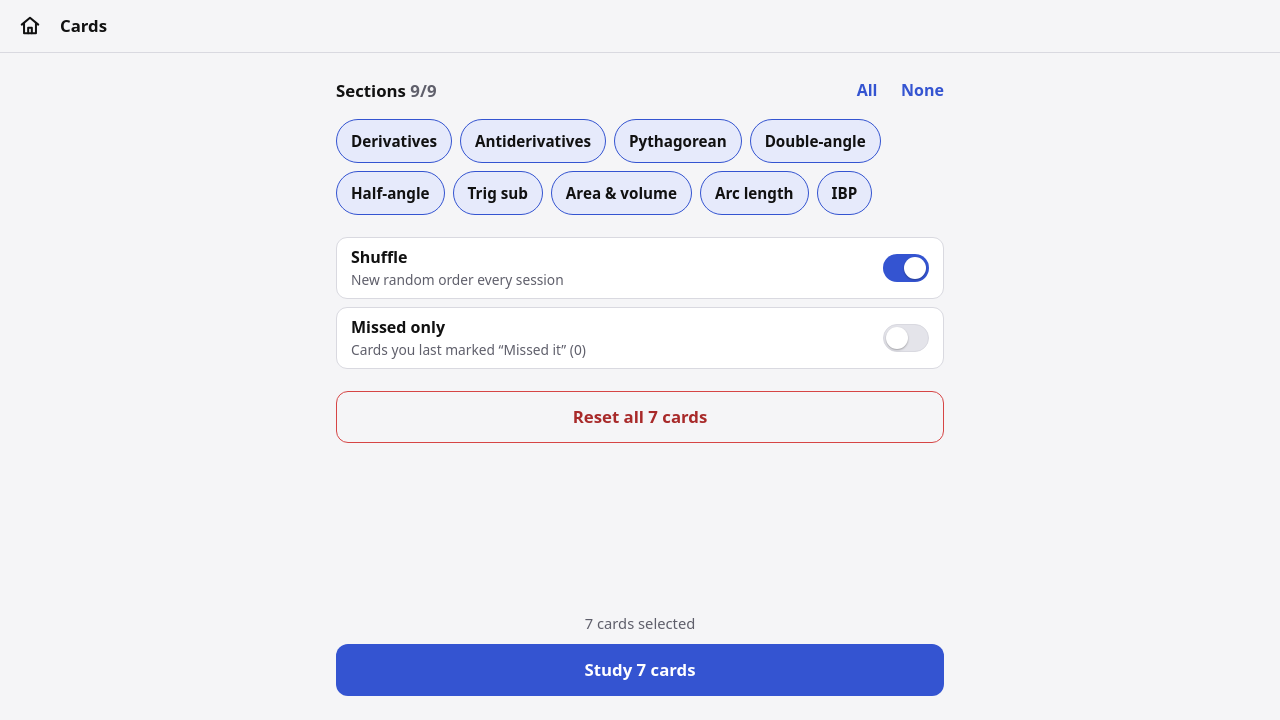
Test: study session › works with storage unavailable (in-memory fallback)
This screenshot has width=1280, height=720.
Later steps or results of the test are not shown.
Click the switch labelled "Shuffle New random order every session".
click(379, 257)  # box [336,237,944,299]
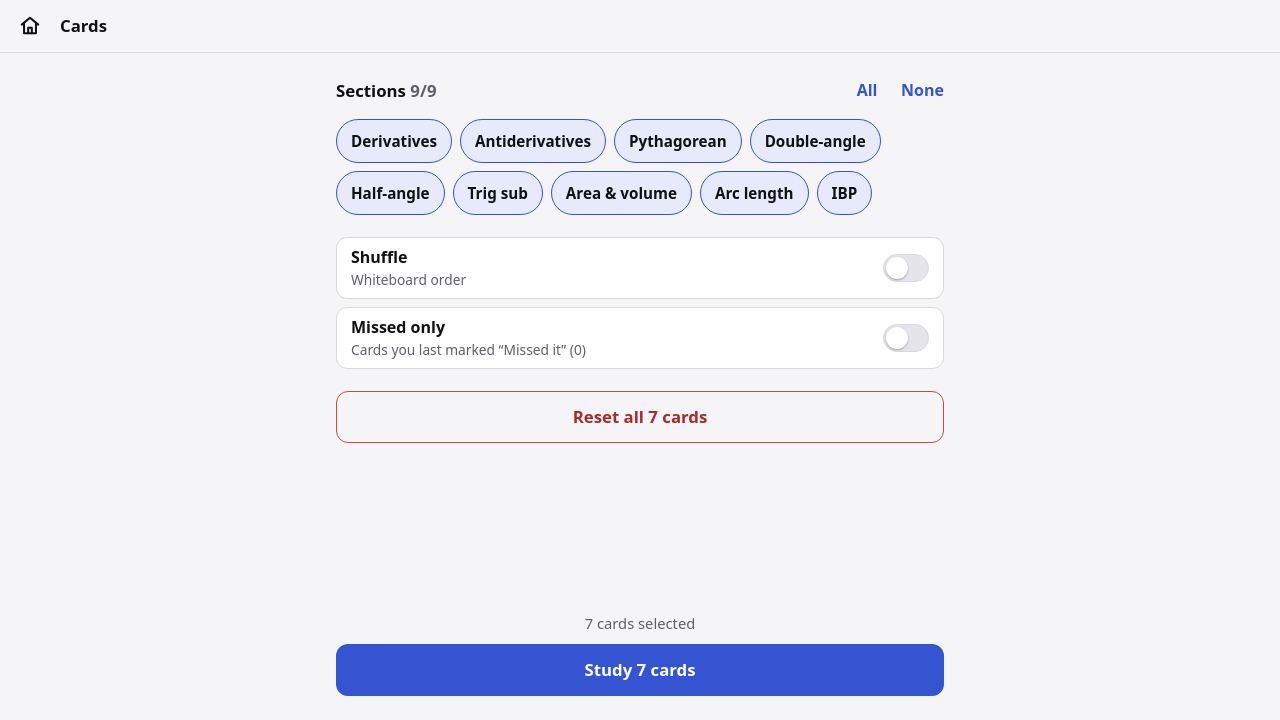
Click the button "Study 7 cards".
click(640, 670)  # box [336,644,944,696]
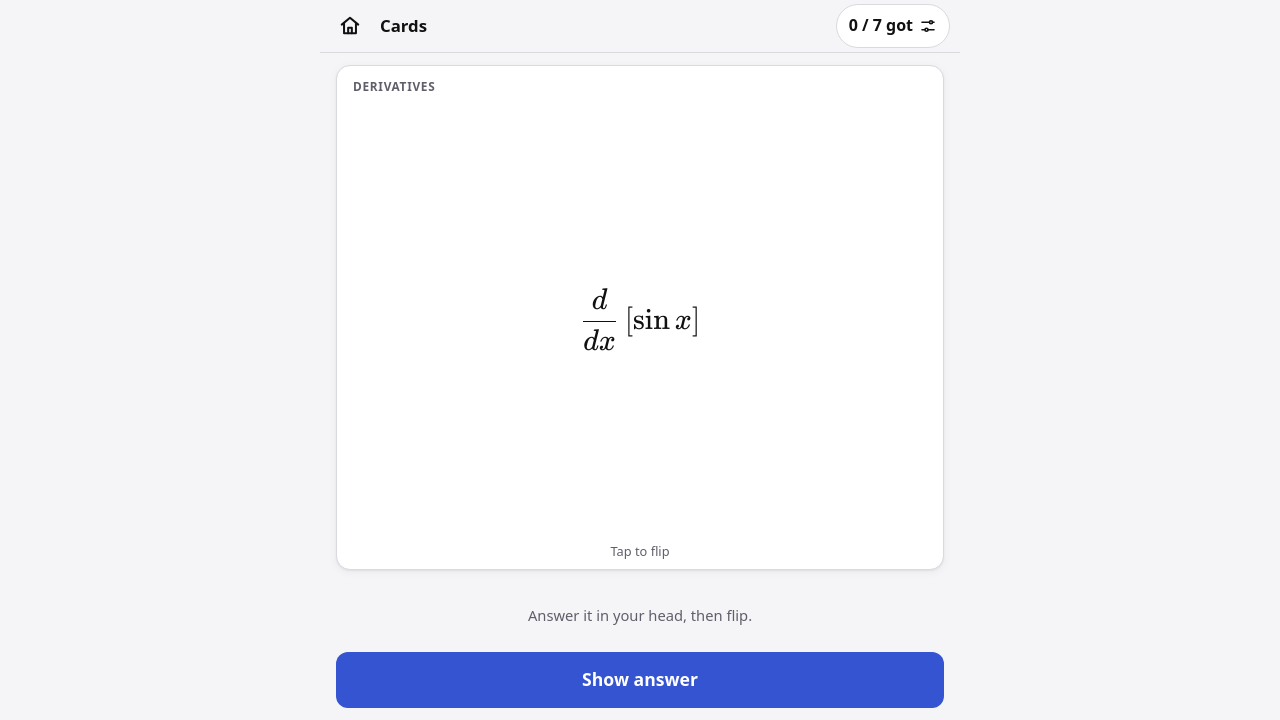
Click the element with class "flashcard".
click(640, 540)  # box [336,65,944,570]
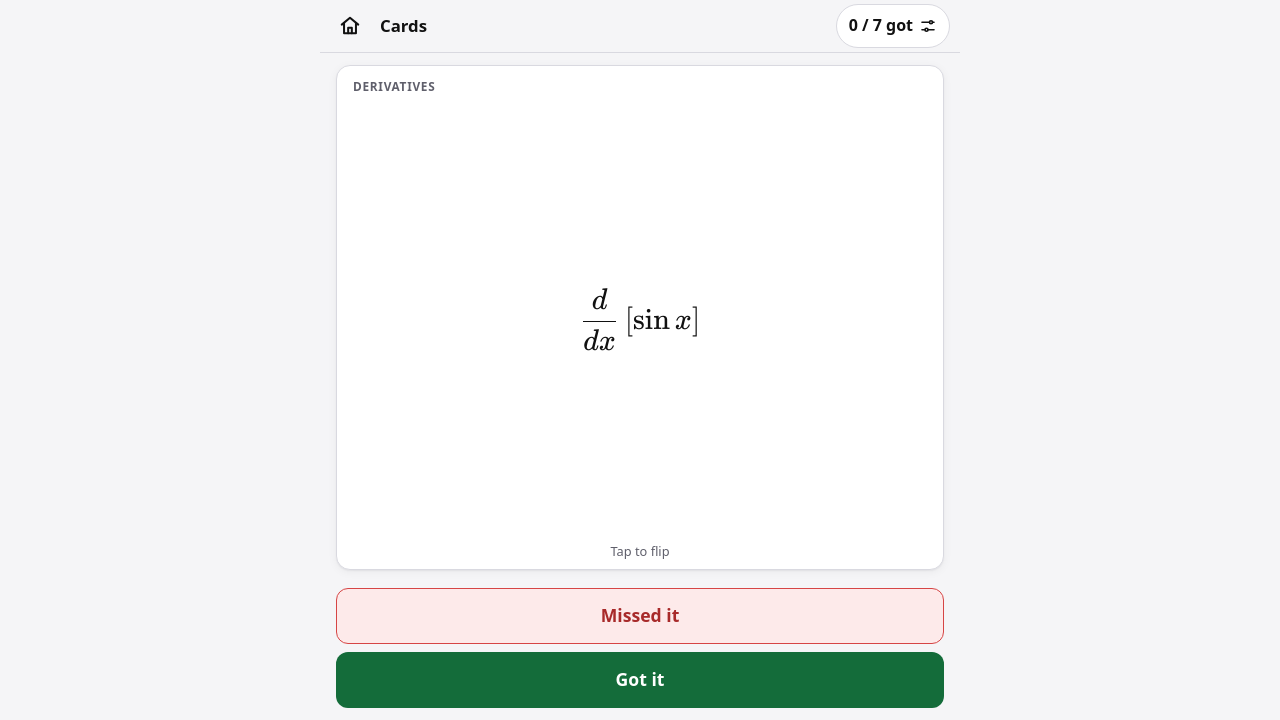
Click the button "Missed it".
click(640, 616)  # box [336,588,944,644]
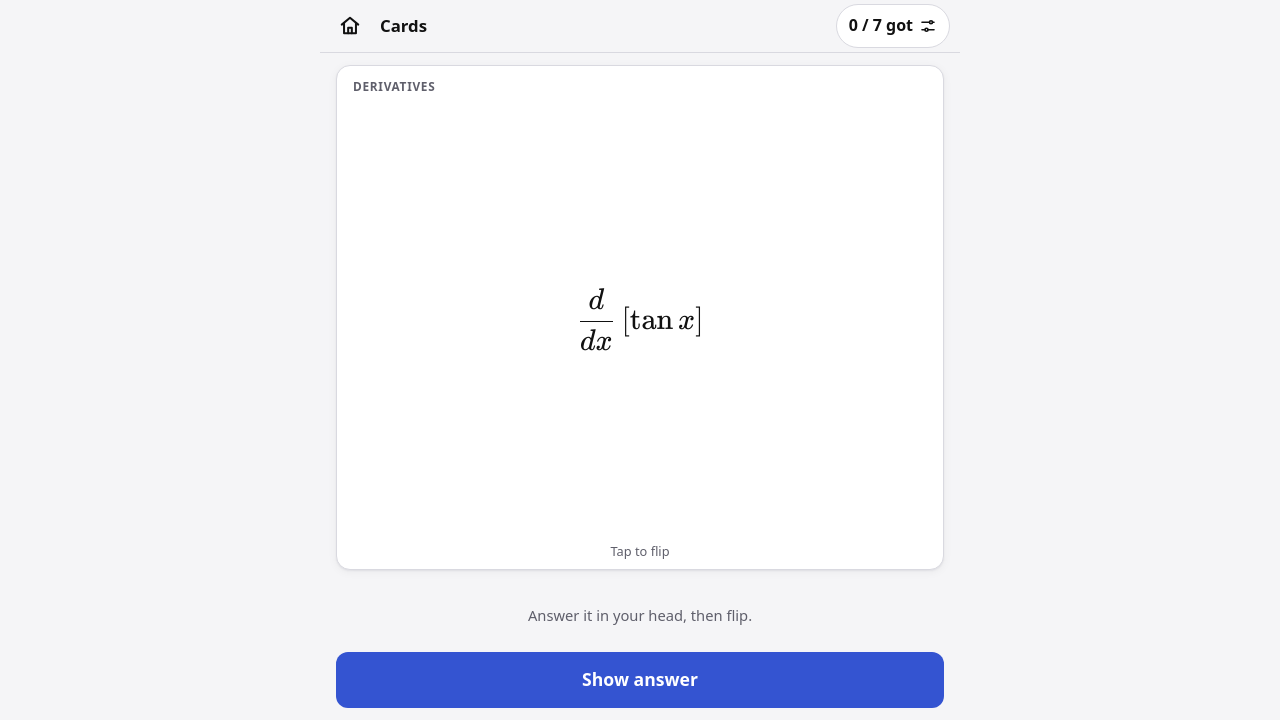
Click the element with class "flashcard".
click(640, 540)  # box [336,65,944,570]
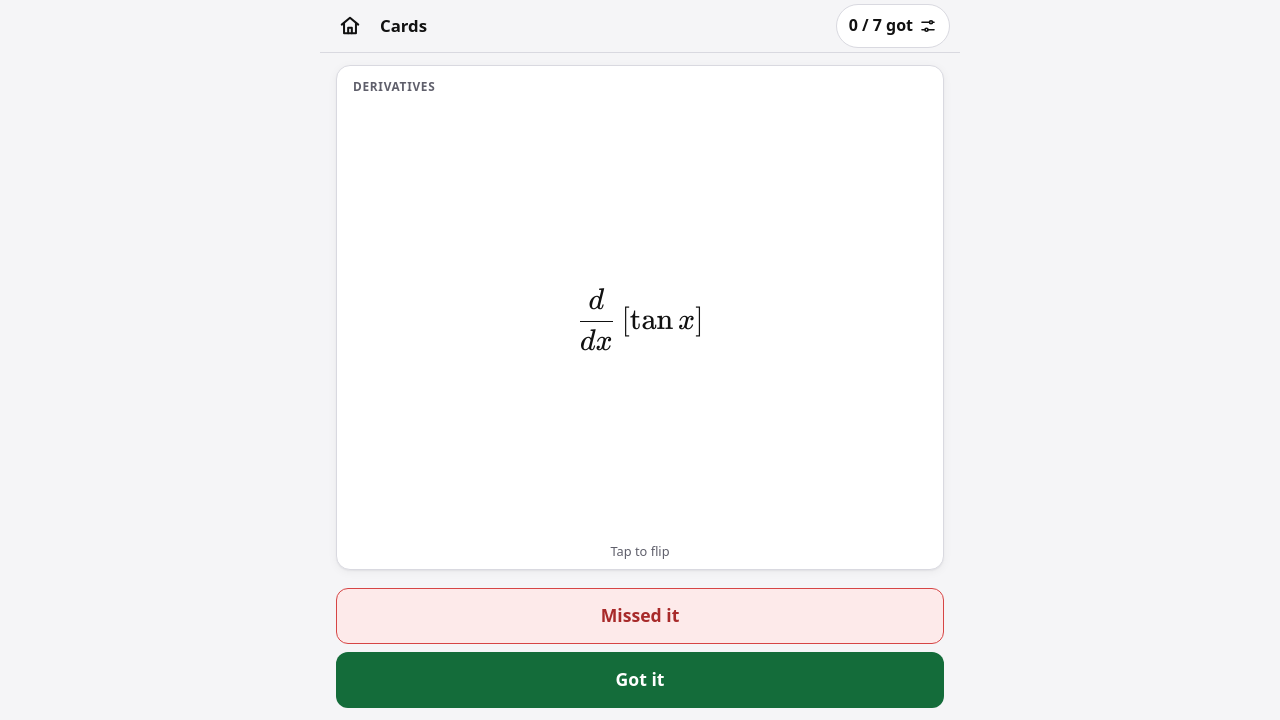
Click the button "Got it".
click(640, 680)  # box [336,652,944,708]
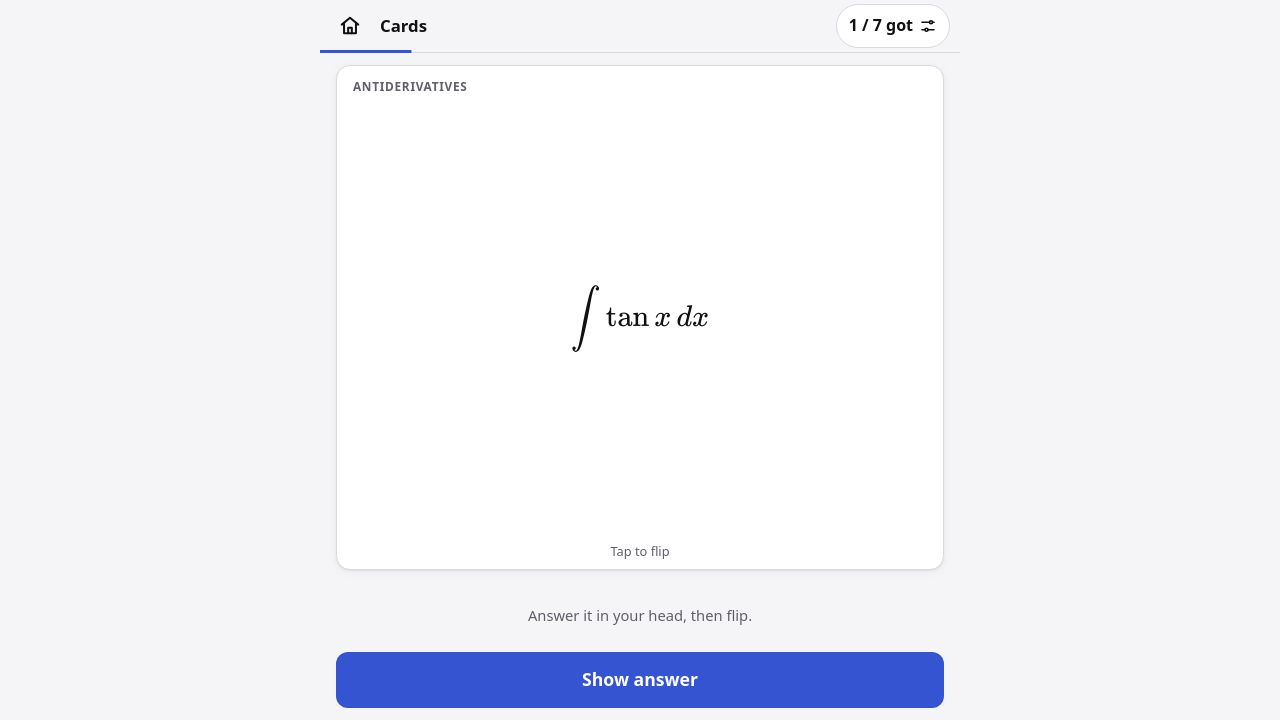
Expected: the text with class "cards-counter-text" reads "1 / 7 got", [849,14,913,36]
